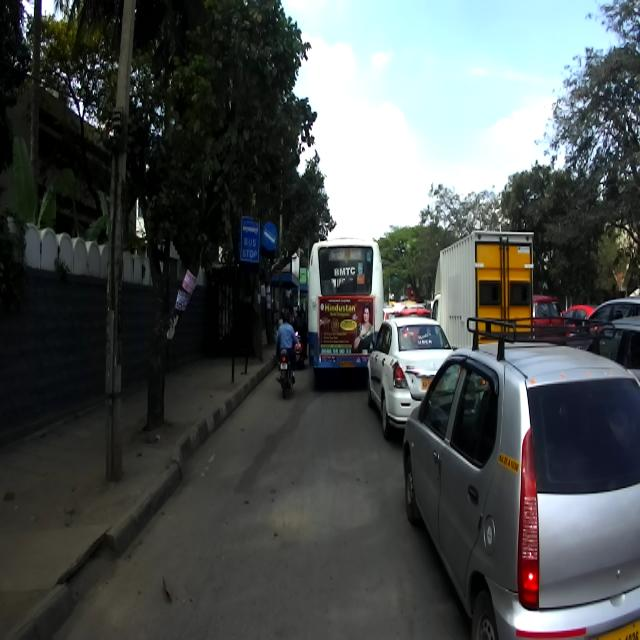bus ahead at: (306, 235, 389, 393)
car ahead at: (408, 335, 640, 640)
